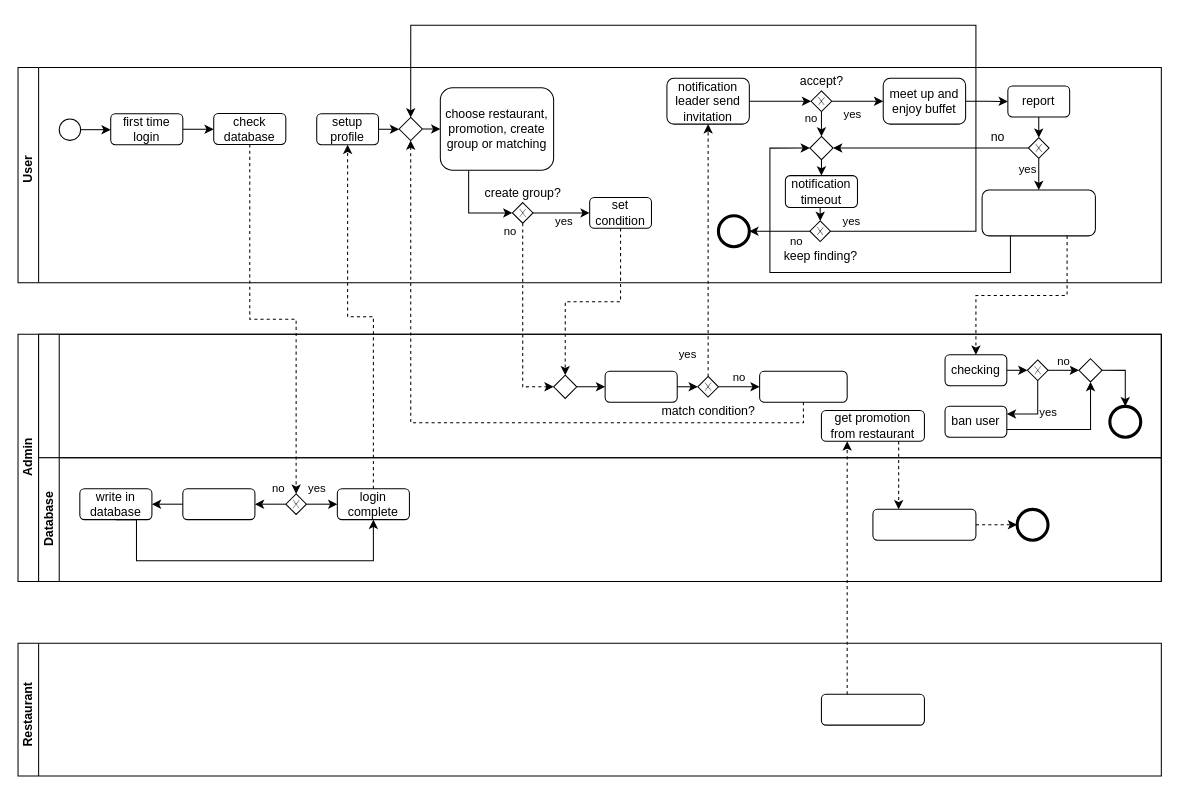
The diagram is 1179 pixels wide and 795 high, and some of its shapes have lost their labels. The box of each missing label's shape, as (x1, y1, x2, y2) in pixels:
add promotion: (820, 693, 924, 725)
already having?: (285, 493, 306, 514)
guilty?: (1026, 359, 1048, 381)
keep matching until timeout: (759, 370, 847, 402)
Management: (38, 333, 1161, 458)
matching: (604, 370, 677, 402)
register account: (182, 488, 255, 520)
report anyone?: (1027, 137, 1049, 158)
update promotion: (872, 508, 976, 540)
write a reason and send to admin: (981, 189, 1095, 236)
